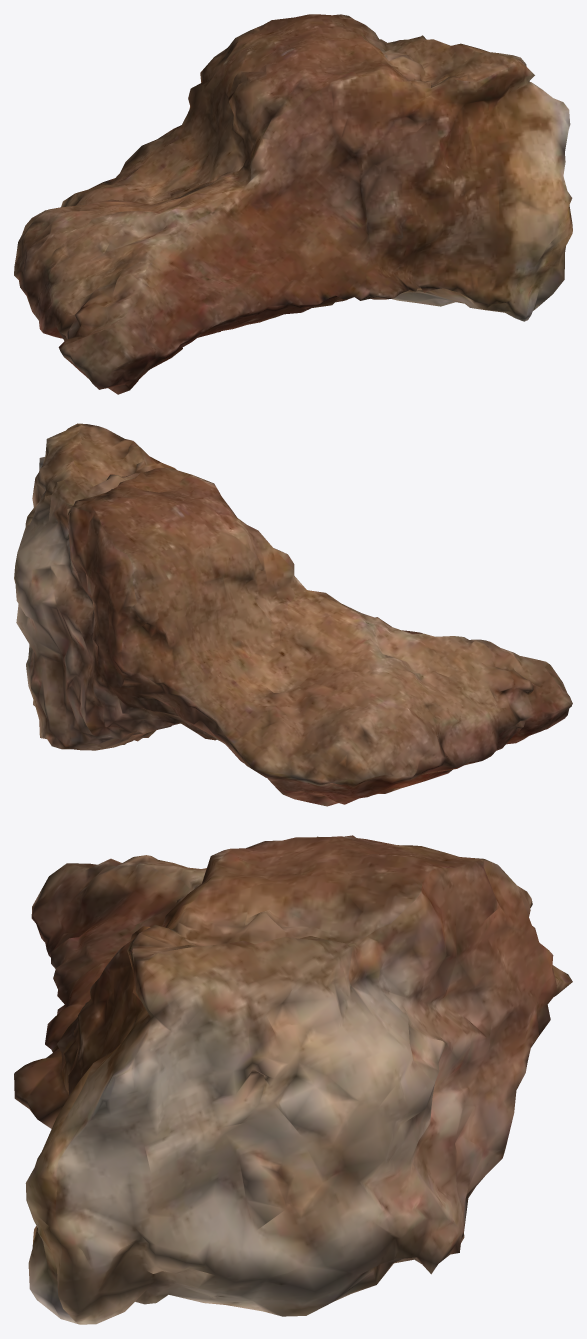
Rendered from stone_01.glb.
3 views of the same model, one above another, from view 1: azimuth 30°, elevation 25°; view 2: azimuth 150°, elevation 25°; view 3: azimuth 270°, elevation 25° (orthographic). The views are drawn at different scales.
Visible parts, largest first — view 1: stone_01; view 2: stone_01; view 3: stone_01.
Part boxes in pixels (bbox=[...]): stone_01: bbox=[14, 14, 572, 394]; stone_01: bbox=[14, 423, 572, 806]; stone_01: bbox=[14, 835, 572, 1324].
Size of the model in its own units: 0.1465 by 0.0714 by 0.089.
Materials: 1 (1 with a texture image).
